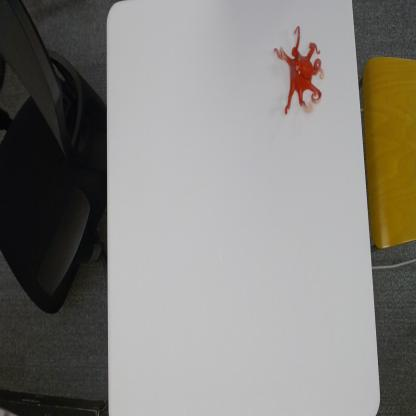Octopus: (272, 24, 325, 118)
